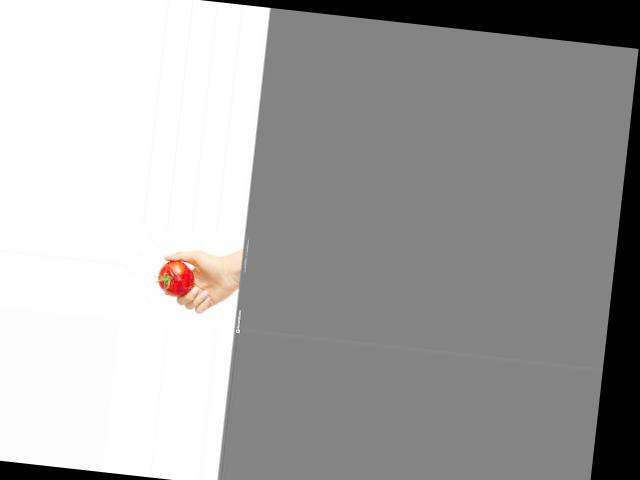tomato: (155, 258, 196, 297)
